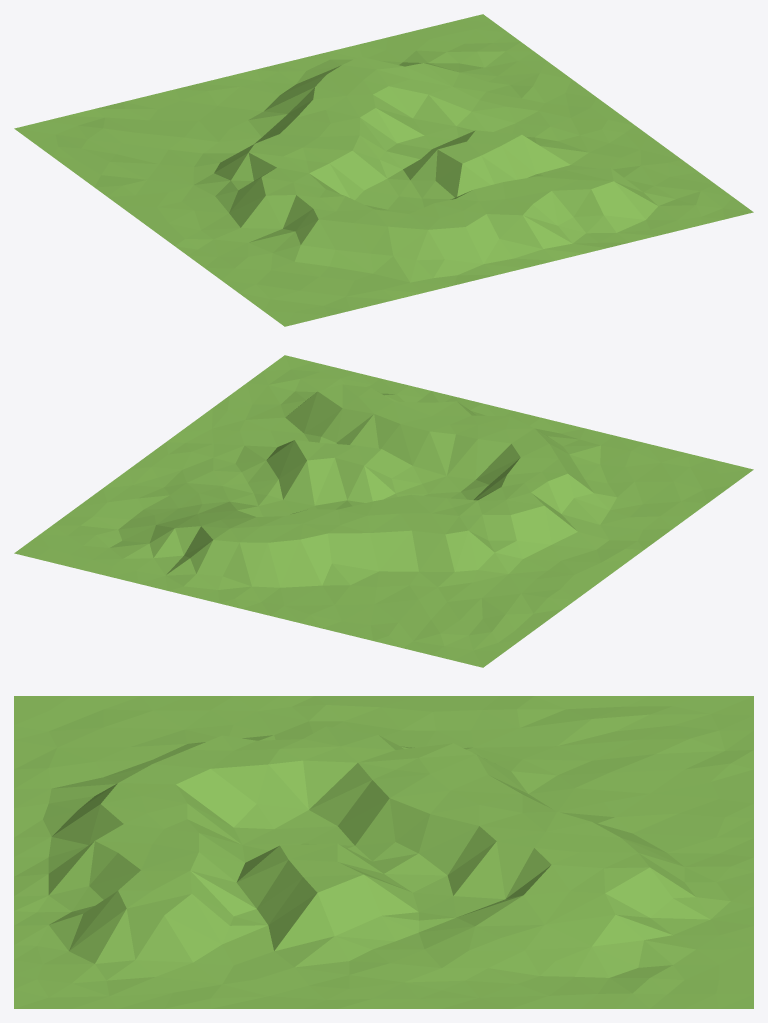
Rendered from MT_Terrain_M_d_04.fbx.
The picture shows the model from 3 angles, top to bottom: view 1: azimuth 30°, elevation 25°; view 2: azimuth 150°, elevation 25°; view 3: azimuth 270°, elevation 25°; orthographic projection. The views are drawn at different scales.
Parts seen in each view (by area): view 1: MT_Terrain_M_d_04; view 2: MT_Terrain_M_d_04; view 3: MT_Terrain_M_d_04.
Boxes of the visible parts, x1,y1,x2,y2 form: MT_Terrain_M_d_04: [14, 14, 753, 326]; MT_Terrain_M_d_04: [14, 355, 753, 667]; MT_Terrain_M_d_04: [14, 696, 753, 1008].
Bounding box in the file's own units: 5000 × 293 × 5000.
